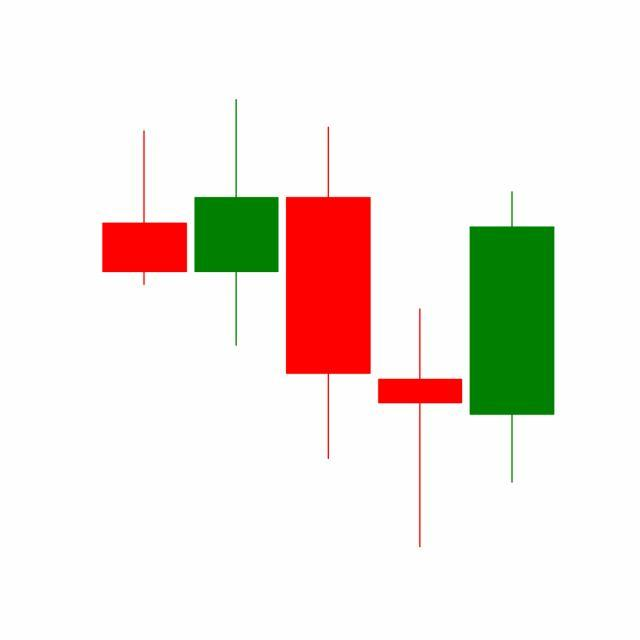Morning Star: (280, 123, 555, 549)
